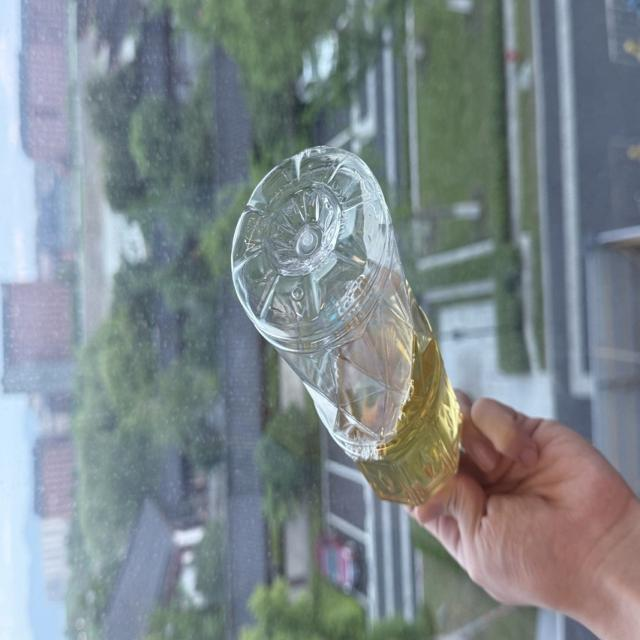medium: (232, 146, 461, 504)
